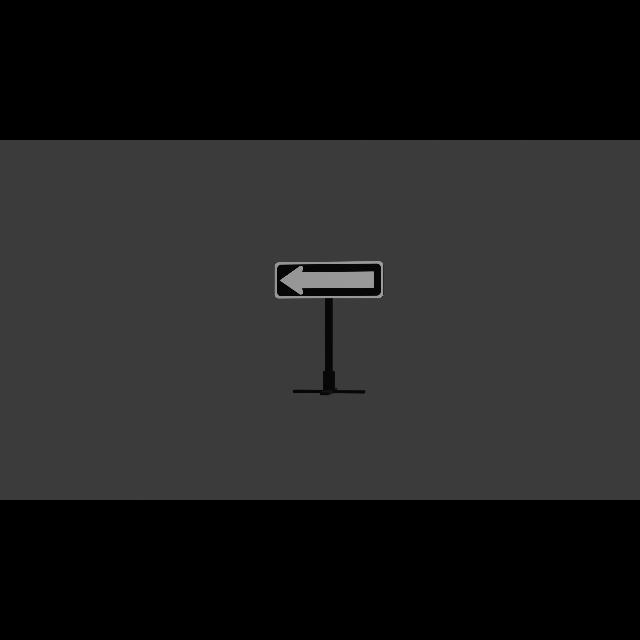sign_oneway_left: (274, 264, 383, 301)
